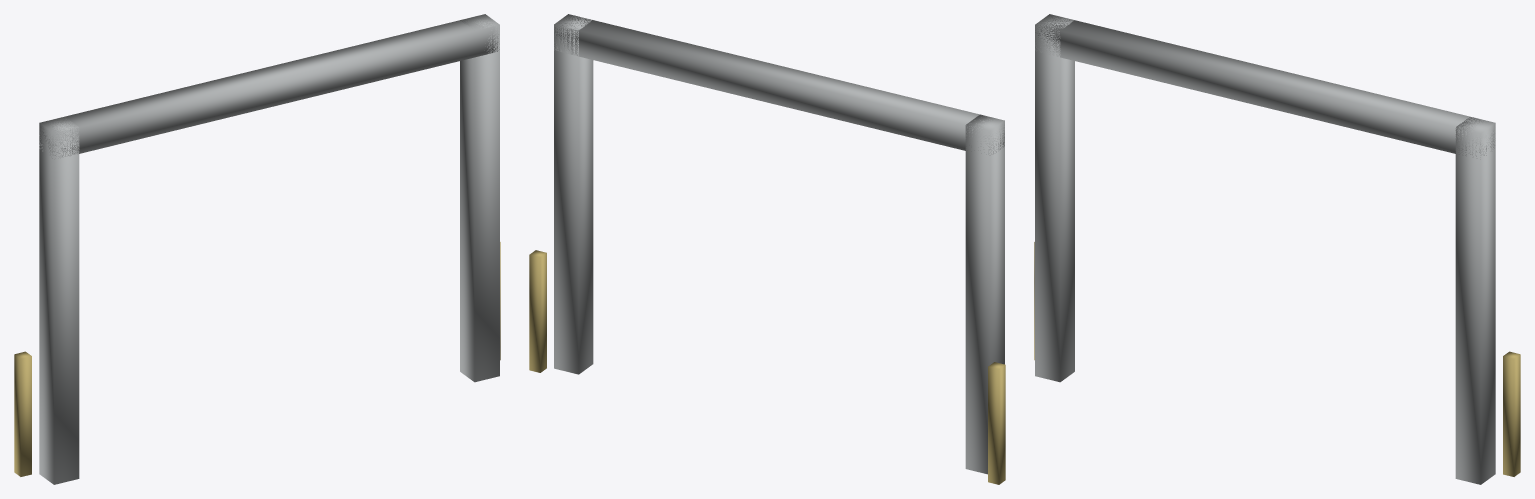
File: elevator_shaft_industrial_w280_h220_d18.glb
3 renders of one model, left to right at view 1: azimuth 30°, elevation 25°; view 2: azimuth 150°, elevation 25°; view 3: azimuth 330°, elevation 25°, orthographic. The views are drawn at different scales.
Visible parts, largest first — view 1: world; view 2: world; view 3: world.
Boxes of the visible parts, x1,y1,x2,y2 form: world: (14, 14, 500, 484); world: (529, 14, 1005, 484); world: (1034, 14, 1520, 484).
Bounding box in the file's own units: 3.4 × 2.38 × 0.28.
